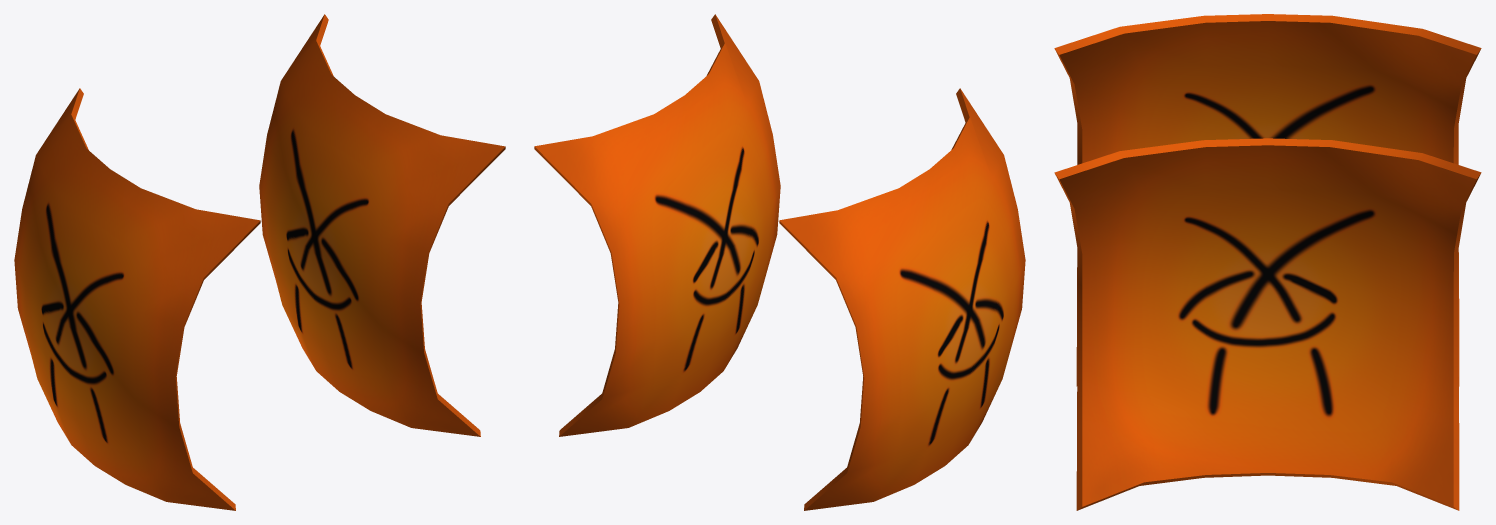
Rendered from Velas_2.fbx.
3 renders of one model, left to right at view 1: azimuth 30°, elevation 25°; view 2: azimuth 150°, elevation 25°; view 3: azimuth 270°, elevation 25°, orthographic. The views are drawn at different scales.
Visible parts, largest first — view 1: Vela_Trasera_2, Vela_Delantera_2; view 2: Vela_Trasera_2, Vela_Delantera_2; view 3: Vela_Trasera_2, Vela_Delantera_2.
Boxes of the visible parts, <box> form: Vela_Trasera_2: <box>259,14,505,436</box>; Vela_Delantera_2: <box>14,88,260,510</box>; Vela_Trasera_2: <box>534,14,780,436</box>; Vela_Delantera_2: <box>779,88,1025,510</box>; Vela_Trasera_2: <box>1054,138,1481,510</box>; Vela_Delantera_2: <box>1054,14,1481,386</box>.
Bounding box in the file's own units: 321 × 271 × 288.
